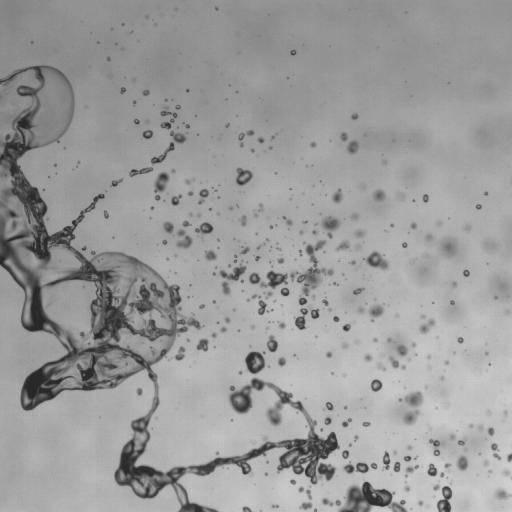droplet: (248, 240, 333, 329), (219, 261, 246, 295), (399, 391, 423, 425), (433, 484, 452, 511), (364, 251, 389, 269), (320, 216, 340, 238), (176, 221, 192, 248), (160, 107, 177, 129), (438, 237, 456, 257), (236, 168, 252, 185), (368, 304, 383, 321), (419, 318, 435, 333), (195, 222, 213, 234), (266, 335, 278, 352), (495, 488, 511, 499), (173, 346, 185, 360), (198, 189, 209, 204), (456, 455, 467, 470), (196, 338, 208, 351), (347, 140, 358, 154), (373, 189, 385, 201), (370, 379, 382, 391), (332, 189, 342, 203), (427, 464, 438, 476), (336, 240, 349, 250), (484, 240, 497, 250), (163, 221, 173, 233), (205, 250, 217, 260), (457, 437, 466, 450), (299, 501, 312, 510), (171, 194, 181, 205), (397, 345, 407, 356), (280, 286, 289, 296), (142, 130, 153, 138), (342, 418, 351, 427), (323, 402, 333, 410), (111, 179, 122, 186), (355, 229, 364, 237), (503, 469, 511, 478), (240, 215, 246, 226), (425, 234, 433, 242), (264, 290, 272, 298), (342, 323, 350, 331), (341, 450, 349, 458), (340, 132, 347, 141), (278, 357, 285, 366), (376, 363, 385, 370), (324, 416, 331, 425), (393, 462, 400, 471), (353, 288, 363, 294), (444, 462, 450, 472), (241, 247, 249, 254), (278, 321, 285, 329), (364, 354, 372, 361), (242, 506, 252, 511), (422, 194, 428, 202), (488, 427, 494, 435), (463, 269, 469, 276), (357, 307, 364, 313), (136, 388, 142, 395), (404, 484, 410, 491), (323, 298, 328, 306), (351, 213, 357, 219), (333, 316, 339, 322), (457, 337, 463, 343), (326, 351, 332, 357), (449, 434, 455, 440), (507, 453, 511, 462), (483, 460, 489, 466), (142, 90, 149, 95), (185, 179, 192, 184), (258, 204, 263, 211), (277, 258, 284, 263), (404, 456, 411, 461), (362, 422, 370, 426), (120, 87, 125, 93), (351, 114, 357, 119), (258, 137, 263, 143), (411, 222, 416, 228), (225, 317, 230, 323), (220, 327, 226, 332), (342, 343, 348, 348), (290, 479, 296, 484), (104, 211, 108, 218), (290, 50, 295, 55), (134, 119, 139, 124), (310, 142, 315, 147), (188, 190, 193, 195), (476, 204, 481, 209), (465, 225, 470, 230), (402, 242, 407, 247), (418, 500, 423, 505), (312, 230, 318, 234), (272, 504, 278, 508), (350, 260, 355, 264), (452, 282, 456, 287), (199, 304, 204, 308), (211, 333, 216, 337), (387, 338, 392, 342), (503, 410, 507, 415), (354, 435, 358, 440), (440, 472, 444, 477), (176, 105, 180, 109), (185, 124, 189, 128), (299, 230, 303, 234), (162, 240, 166, 244), (356, 244, 360, 248), (255, 256, 259, 260), (450, 300, 454, 304), (373, 338, 377, 342), (407, 445, 411, 449), (400, 193, 403, 198), (299, 250, 302, 255), (82, 247, 86, 250), (425, 254, 429, 257), (82, 285, 86, 288), (445, 360, 448, 364), (469, 424, 473, 427), (479, 425, 483, 428), (107, 57, 110, 60), (251, 148, 254, 151), (150, 206, 153, 209), (254, 213, 257, 216), (277, 247, 280, 250), (421, 315, 424, 318), (251, 325, 254, 328), (412, 343, 415, 346), (239, 371, 242, 374), (487, 411, 490, 414), (393, 451, 396, 454), (133, 101, 135, 104), (383, 161, 386, 163), (172, 169, 174, 172), (484, 192, 487, 194), (229, 207, 232, 209), (391, 224, 393, 227), (270, 226, 273, 228), (186, 339, 189, 341), (427, 356, 430, 358), (344, 406, 347, 408), (489, 470, 491, 473), (215, 7, 217, 9), (226, 124, 228, 126), (271, 136, 273, 138), (269, 147, 271, 149), (189, 213, 191, 215), (198, 214, 200, 216), (304, 221, 306, 223), (506, 311, 508, 313), (441, 377, 443, 379), (415, 456, 417, 458), (314, 509, 316, 511)
ligament: (0, 65, 335, 511), (129, 130, 186, 176), (322, 481, 407, 511), (247, 294, 271, 315), (154, 172, 169, 200), (343, 462, 377, 473), (238, 130, 253, 146), (389, 356, 405, 369), (429, 439, 440, 455), (491, 443, 501, 460), (298, 486, 311, 498), (404, 465, 418, 476), (382, 451, 390, 470), (283, 216, 292, 225), (257, 243, 264, 248), (234, 255, 237, 262)
